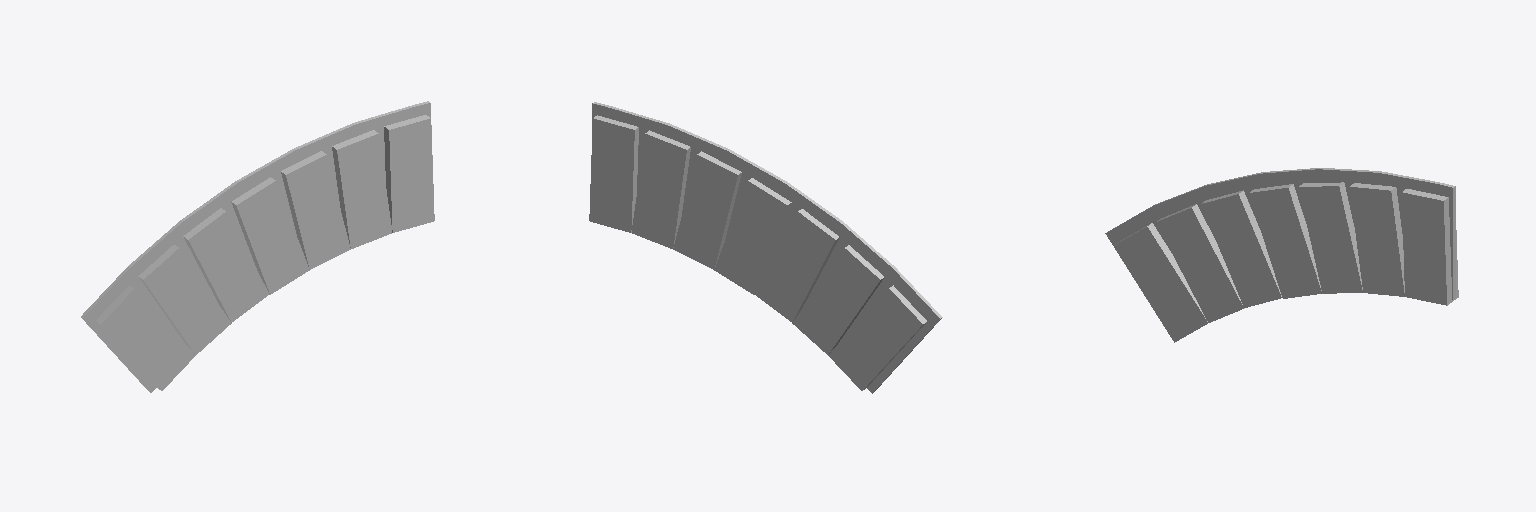
File: lime_mortar_orange_clay_brick_facade_segmental_arch_2_left.obj
3 views of the same model, side by side, from view 1: azimuth 30°, elevation 25°; view 2: azimuth 150°, elevation 25°; view 3: azimuth 330°, elevation 25° (orthographic).
Parts seen in each view (by area): view 1: brick.012, brick.011, brick.010, brick.008, brick.006, brick.009, brick.007, cube.116, cube.117, cube.118, cube.119, cube.120 (+1 smaller); view 2: brick.012, brick.011, brick.010, brick.008, brick.006, brick.009, brick.007, cube.116, cube.117, cube.118, cube.119, cube.120 (+1 smaller); view 3: brick.012, brick.011, brick.006, brick.010, brick.008, brick.009, brick.007, cube.120, cube.119, cube.118, cube.122, cube.117 (+2 smaller).
Boxes of the visible parts, box(x1,y1,x2,y2) form: brick.012: box(384, 115, 434, 232); brick.011: box(332, 130, 391, 248); brick.010: box(281, 151, 350, 269); brick.008: box(231, 177, 309, 294); brick.006: box(96, 285, 195, 390); brick.009: box(183, 208, 269, 322); brick.007: box(138, 245, 231, 354); cube.116: box(81, 266, 183, 392); cube.117: box(129, 221, 217, 322); cube.118: box(180, 181, 256, 268); cube.119: box(236, 149, 298, 234); cube.120: box(294, 123, 357, 208); brick.012: box(589, 115, 638, 232); brick.011: box(632, 130, 690, 248); brick.010: box(673, 151, 741, 269); brick.008: box(714, 178, 791, 294); brick.006: box(828, 285, 926, 390); brick.009: box(754, 209, 839, 322); brick.007: box(792, 245, 883, 354); cube.116: box(838, 267, 942, 393); cube.117: box(802, 221, 894, 336); cube.118: box(765, 182, 841, 272); cube.119: box(723, 149, 786, 239); cube.120: box(665, 123, 728, 212); brick.012: box(1402, 189, 1458, 305); brick.011: box(1350, 183, 1404, 296); brick.006: box(1114, 223, 1207, 342); brick.010: box(1298, 182, 1362, 293); brick.008: box(1249, 184, 1321, 298); brick.009: box(1201, 190, 1281, 307); brick.007: box(1156, 204, 1244, 322); cube.120: box(1319, 168, 1379, 226); cube.119: box(1261, 168, 1321, 223); cube.118: box(1205, 172, 1265, 227); cube.122: box(1379, 171, 1439, 233); cube.117: box(1153, 185, 1214, 237).
Size of the model in its own units: 1.29 by 0.7873 by 0.0741.